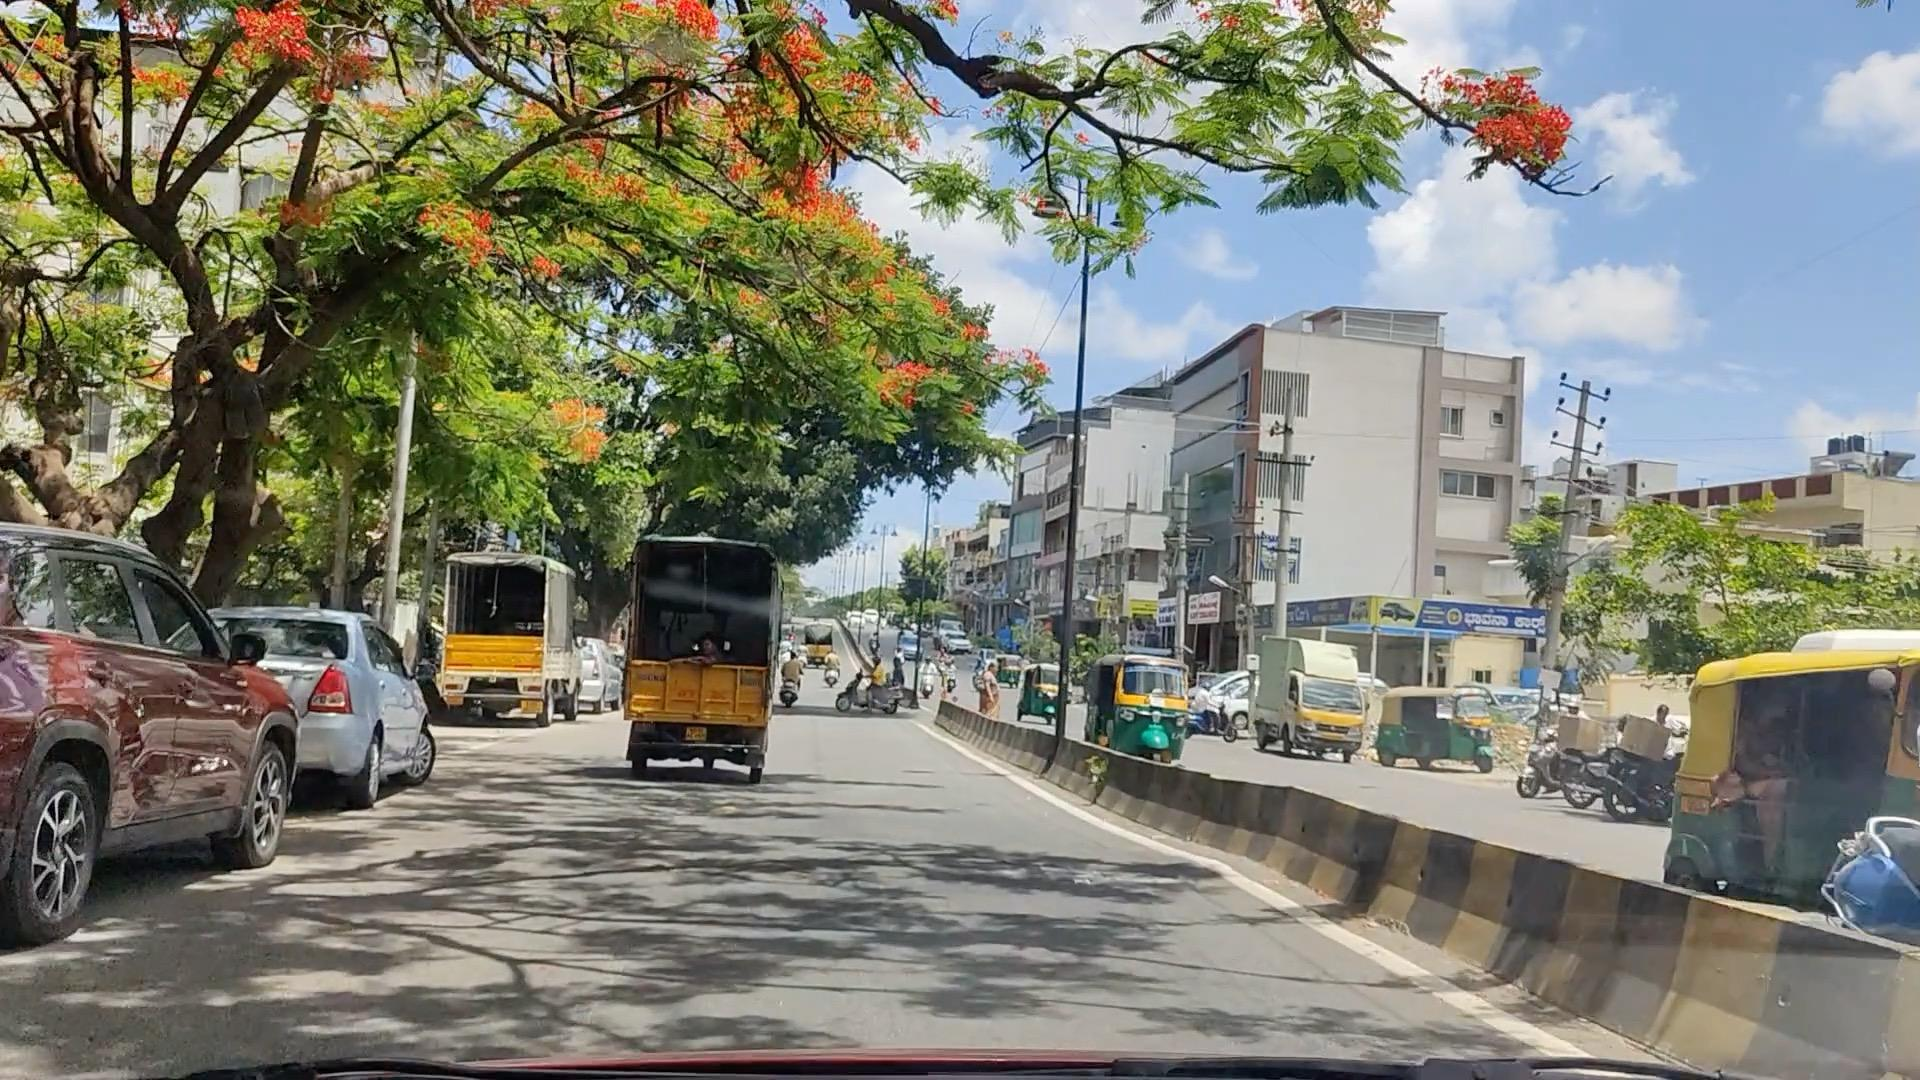HMV: (624, 524, 782, 777)
